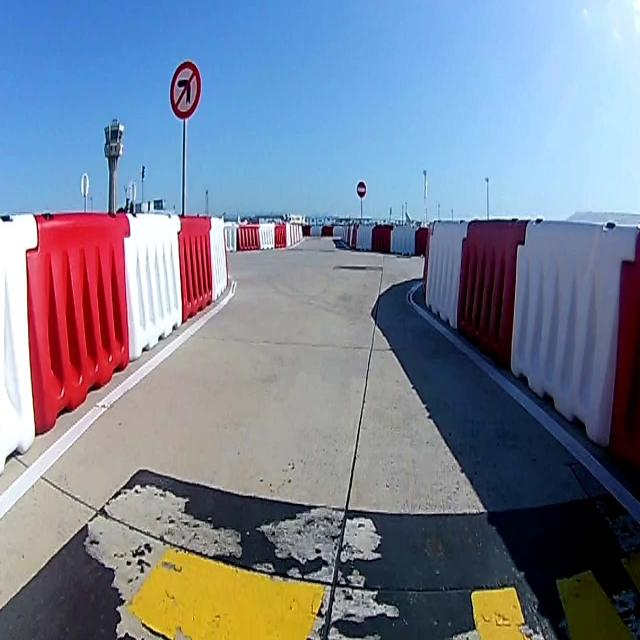girisyok: (356, 178, 366, 197)
soladonulmez: (170, 59, 202, 121)
